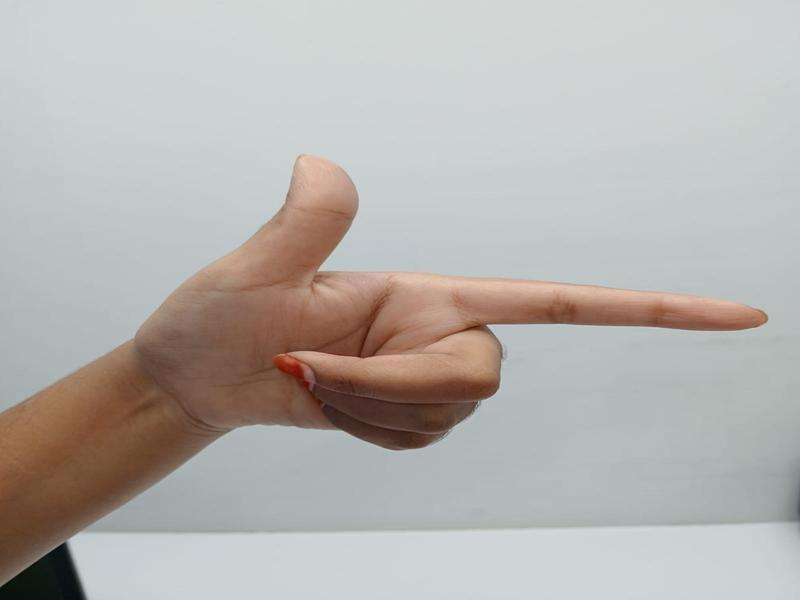FORWARD: (3, 145, 776, 588)
